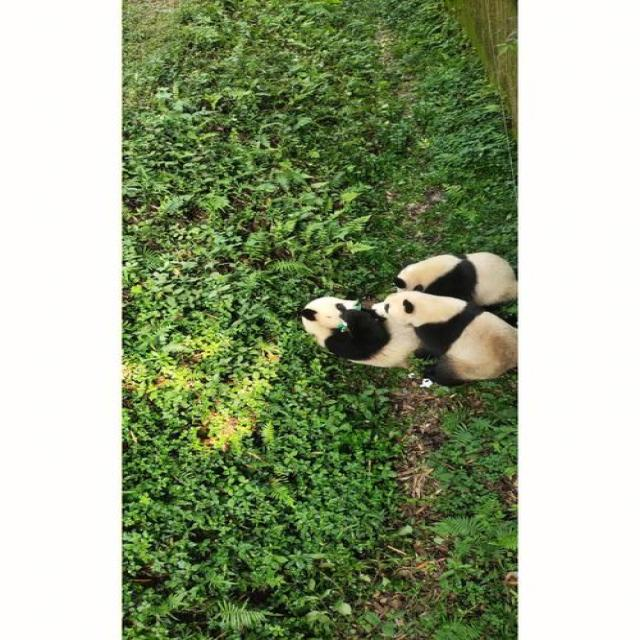panda: (285, 222, 514, 389)
